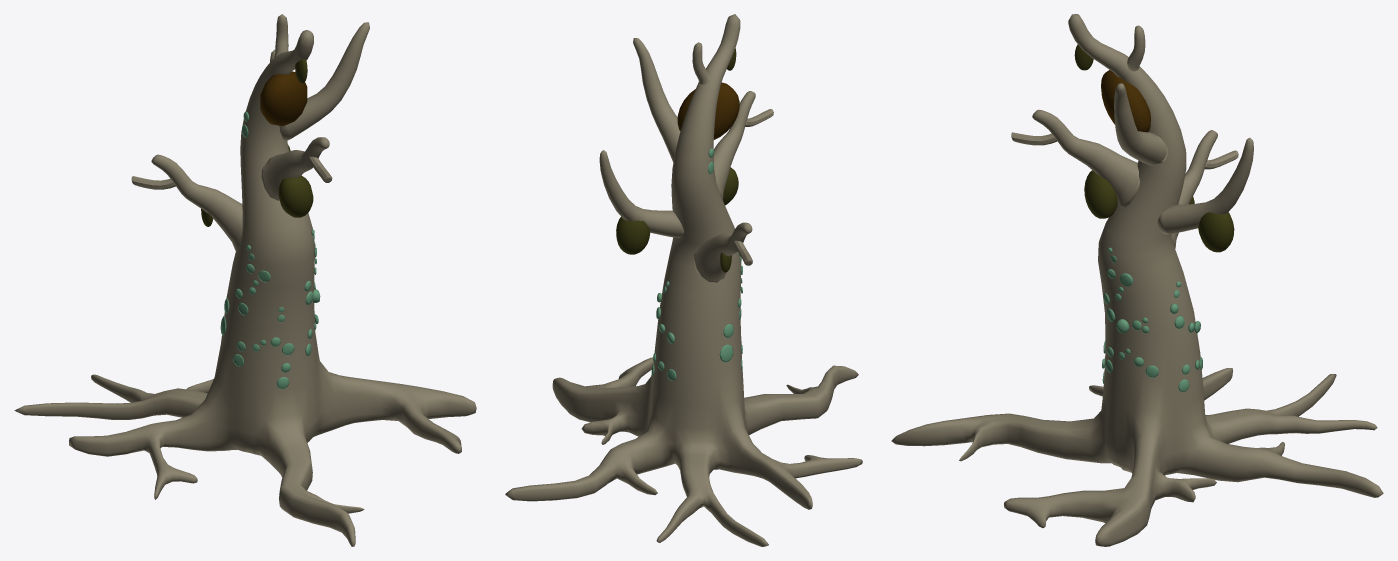
File: l_drzewo_matka_2_dead.fbx
3 views of the same model, side by side, from view 1: azimuth 30°, elevation 25°; view 2: azimuth 150°, elevation 25°; view 3: azimuth 270°, elevation 25° (orthographic). The views are drawn at different scales.
Visible parts, largest first — view 1: Cylinder.005, Cylinder.008, Cylinder.006, Circle.023, Sphere.023, Cylinder.003, Sphere.021; view 2: Cylinder.005, Cylinder.002, Cylinder.008, Cylinder.006, Cylinder.003, Sphere.023, Circle.023, Sphere.024, Cylinder.001; view 3: Cylinder.005, Cylinder.003, Cylinder.002, Cylinder.008, Circle.023, Sphere.023, Cylinder.006, Sphere.021, Sphere.024.
Boxes of the visible parts, x1,y1,x2,y2 form: Cylinder.005: [14, 30, 476, 546]; Cylinder.008: [279, 22, 369, 141]; Cylinder.006: [151, 154, 242, 252]; Circle.023: [220, 111, 320, 389]; Sphere.023: [260, 71, 307, 126]; Cylinder.003: [260, 137, 329, 200]; Sphere.021: [278, 175, 313, 217]; Cylinder.005: [505, 14, 862, 546]; Cylinder.002: [599, 150, 683, 237]; Cylinder.008: [633, 38, 680, 162]; Cylinder.006: [693, 222, 752, 282]; Cylinder.003: [713, 91, 755, 199]; Sphere.023: [677, 82, 739, 139]; Circle.023: [651, 148, 742, 380]; Sphere.024: [616, 216, 650, 254]; Cylinder.001: [692, 42, 710, 84]; Cylinder.005: [891, 14, 1383, 546]; Cylinder.003: [1032, 109, 1140, 207]; Cylinder.002: [1157, 137, 1253, 234]; Cylinder.008: [1114, 83, 1167, 165]; Circle.023: [1102, 247, 1202, 392]; Sphere.023: [1101, 70, 1150, 132]; Cylinder.006: [1171, 130, 1217, 248]; Sphere.021: [1084, 170, 1117, 218]; Sphere.024: [1198, 212, 1234, 252].
Bounding box in the file's own units: 4.24 × 5.13 × 5.19.
